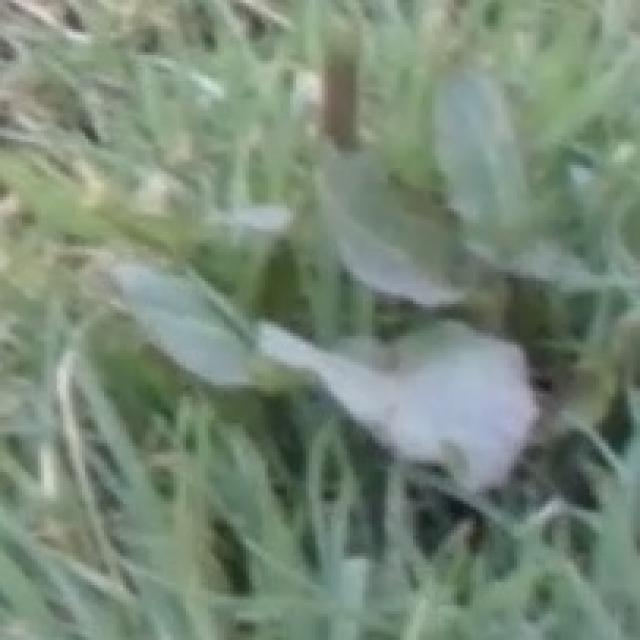organic waste: (107, 113, 561, 485)
